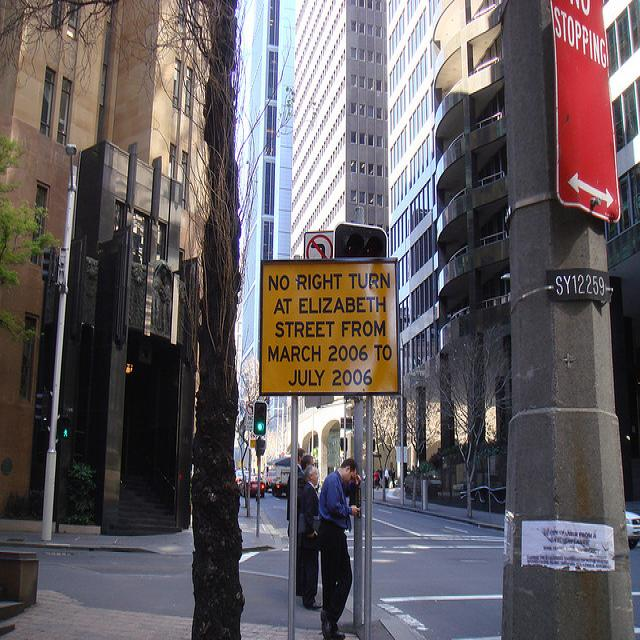Vehicle: (267, 454, 291, 499), (626, 510, 640, 549), (247, 474, 266, 498), (262, 470, 276, 492), (236, 471, 243, 482)
